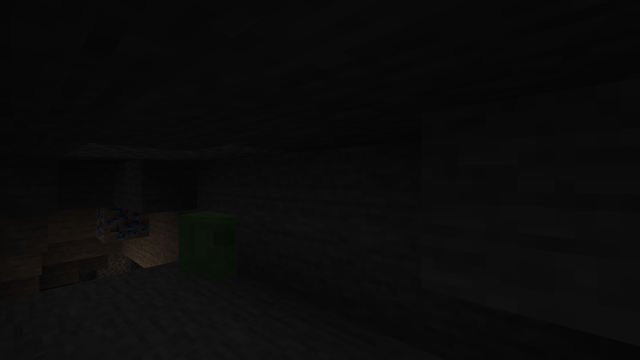slimes: (180, 208, 237, 281)
